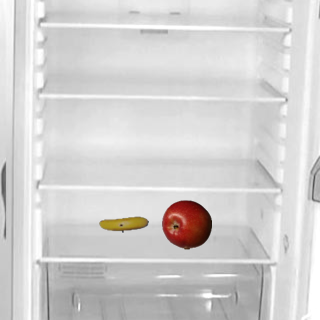Apple Braeburn: (161, 199, 211, 249)
Banana: (98, 199, 148, 249)
